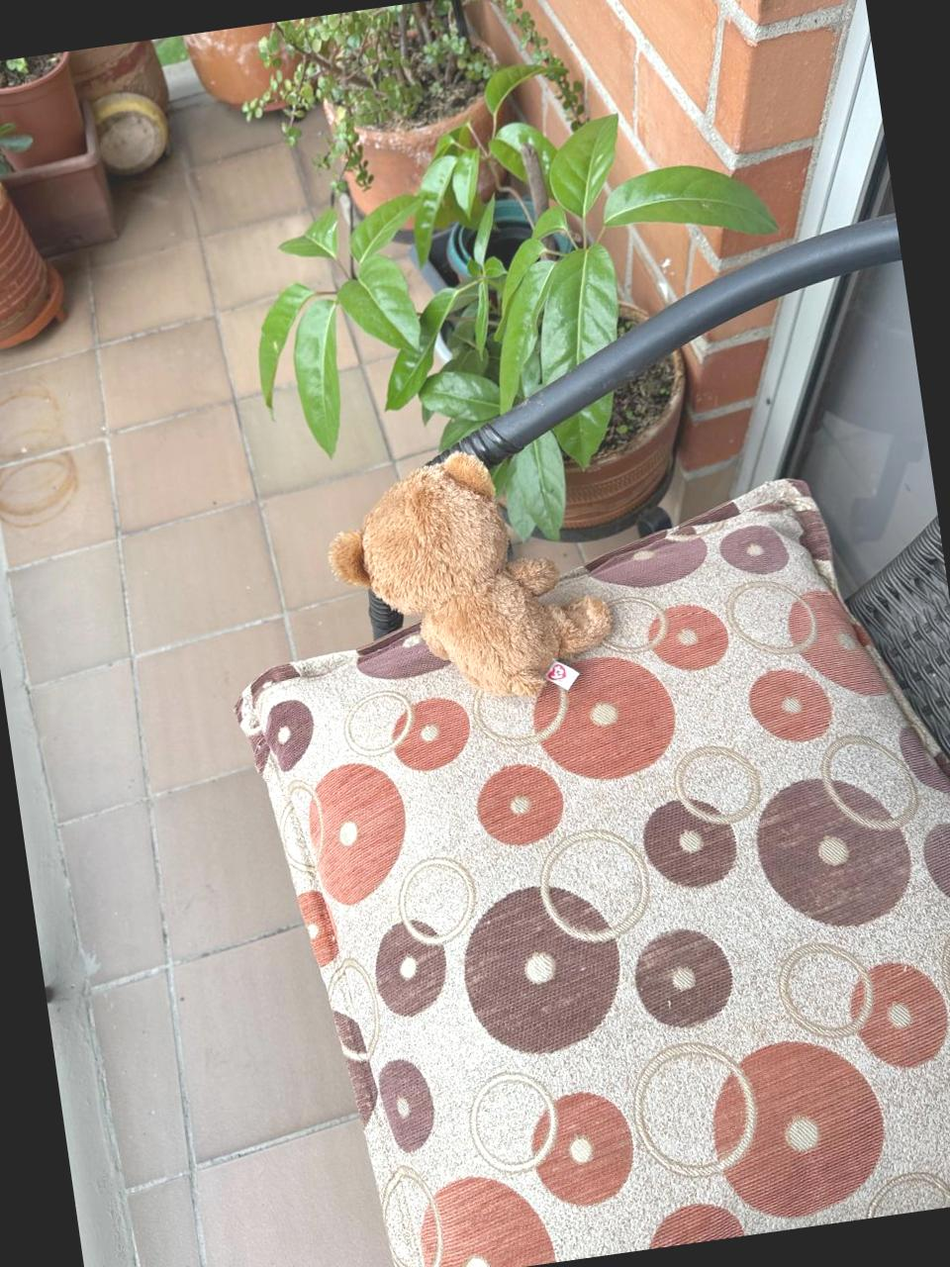peluche_sebastian: (309, 411, 622, 719)
